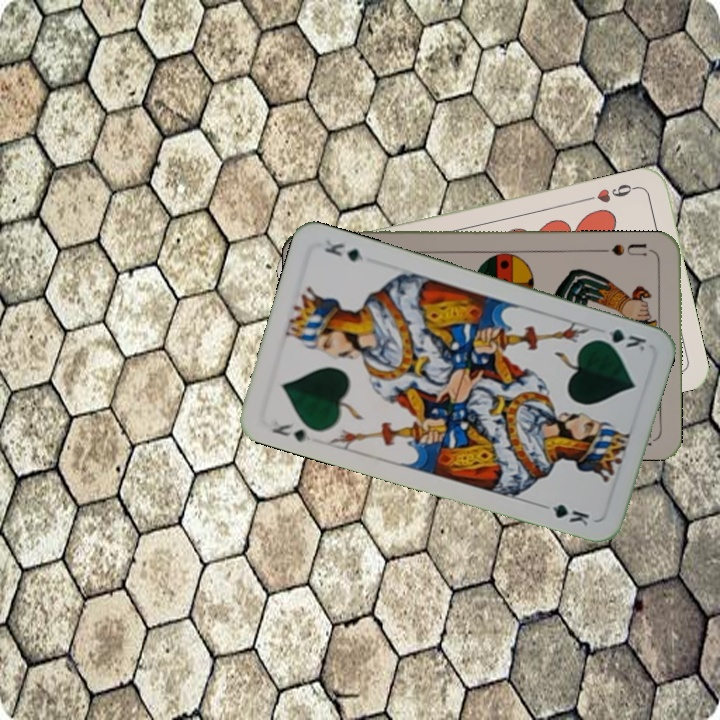GK: (591, 324, 649, 354), (267, 416, 315, 445)
H9: (593, 180, 641, 206)
SU: (608, 239, 657, 258)
